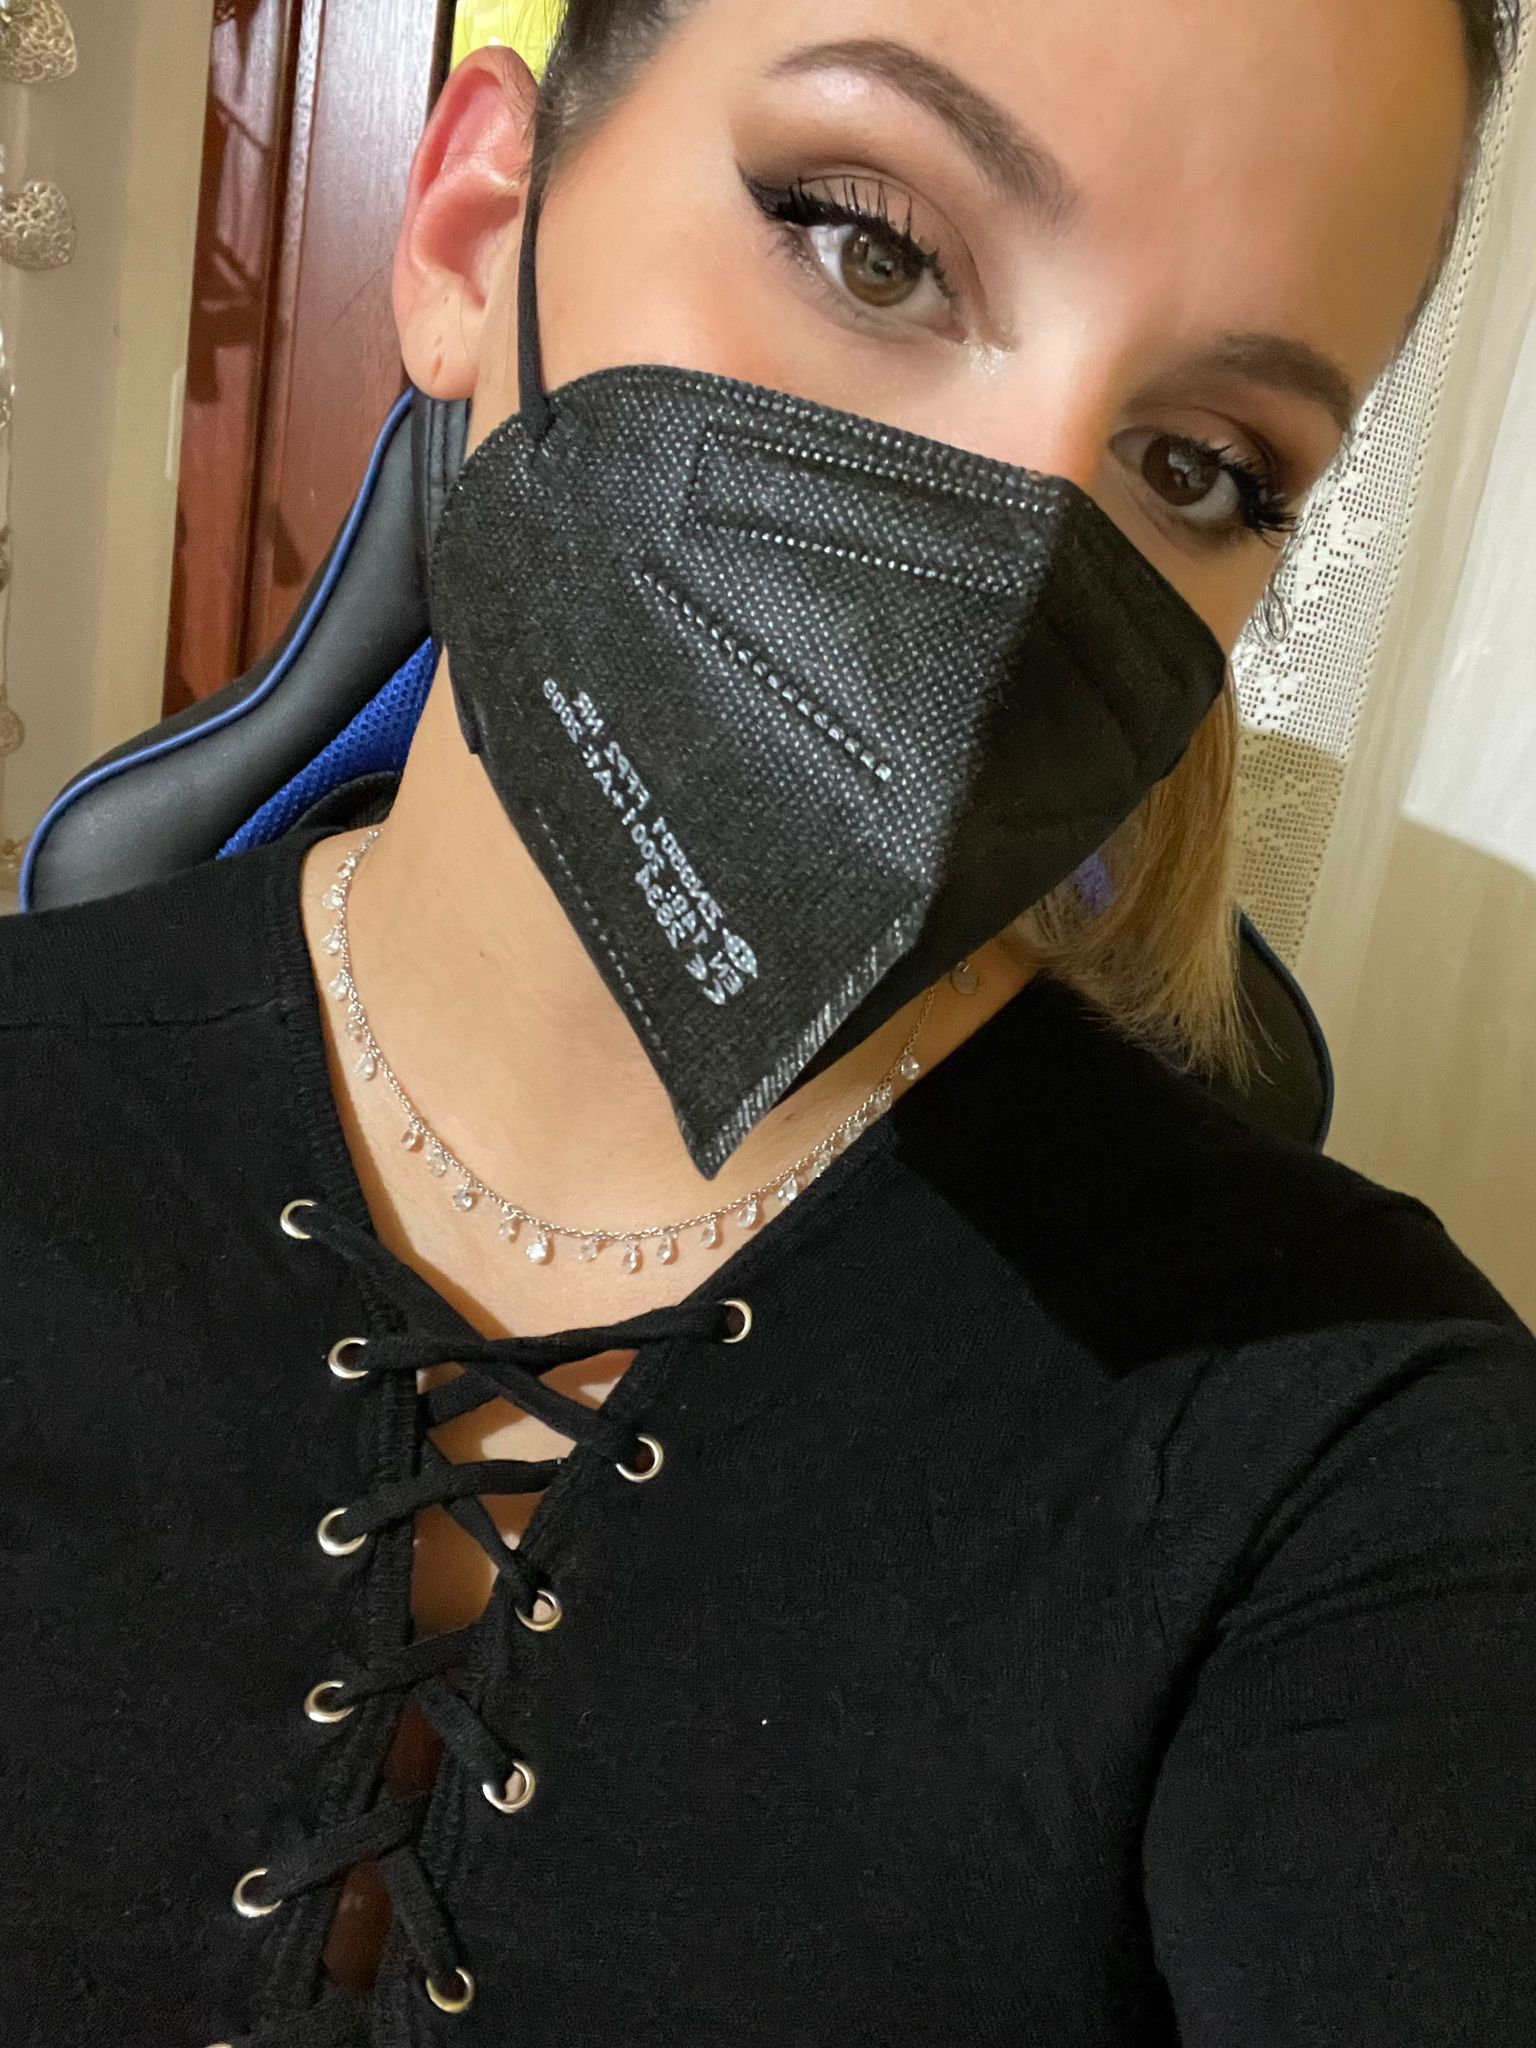with_mask: (392, 2, 1509, 1141)
